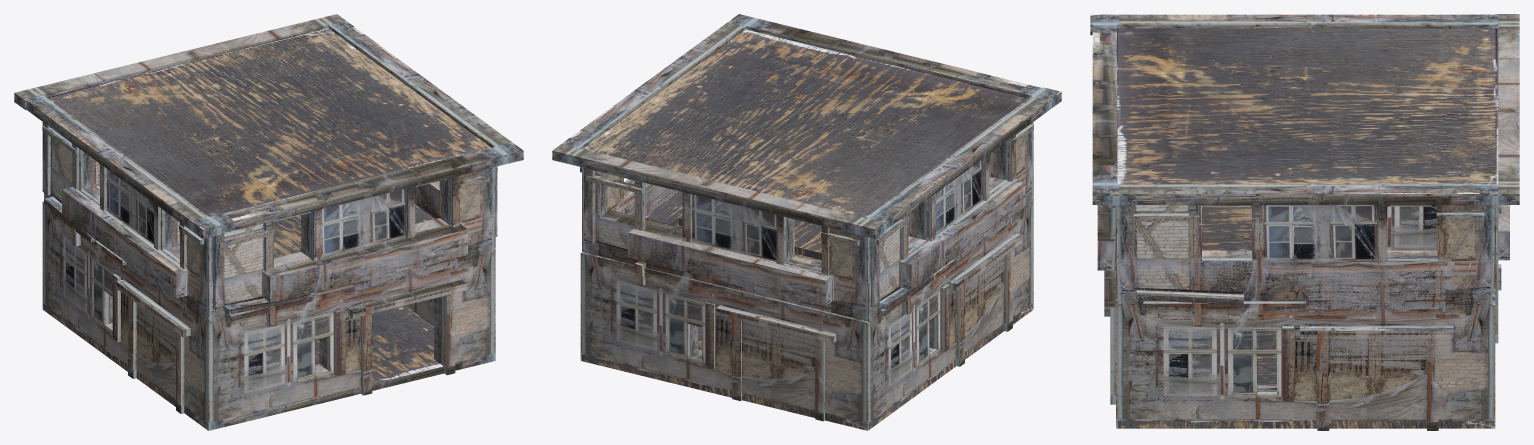
File: BagBuilding11_140.fbx
The picture shows the model from 3 angles, left to right: view 1: azimuth 30°, elevation 25°; view 2: azimuth 150°, elevation 25°; view 3: azimuth 270°, elevation 25°; orthographic projection. The views are drawn at different scales.
Parts seen in each view (by area): view 1: main140, floors140, interior140; view 2: main140, floors140, interior140; view 3: main140, floors140, interior140.
Part boxes in pixels (x1=…): main140: x1=26, y1=18, x2=512, y2=430; floors140: x1=42, y1=28, x2=491, y2=430; interior140: x1=14, y1=14, x2=523, y2=374; main140: x1=562, y1=18, x2=1050, y2=424; floors140: x1=580, y1=29, x2=1033, y2=430; interior140: x1=552, y1=14, x2=1061, y2=355; main140: x1=1092, y1=14, x2=1519, y2=430; floors140: x1=1116, y1=27, x2=1498, y2=428; interior140: x1=1090, y1=14, x2=1519, y2=250.
Size of the model in its own units: 14.68 by 9.29 by 14.78.
